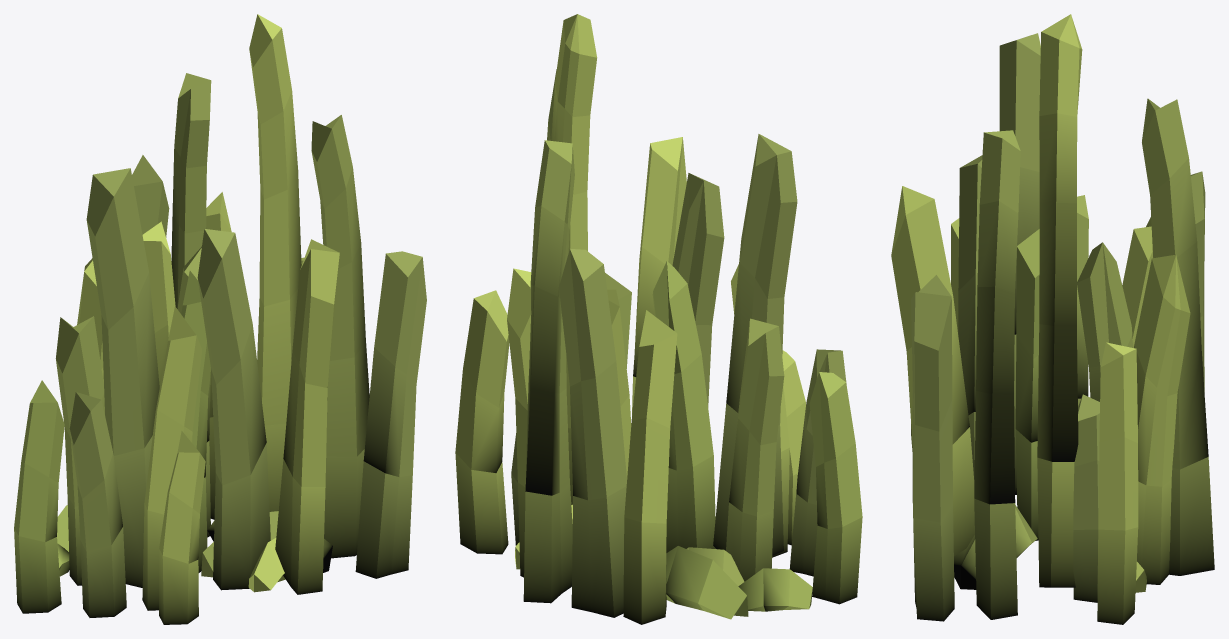
File: EA03_Plant_Grass_01d.glb
The picture shows the model from 3 angles, left to right: view 1: azimuth 30°, elevation 25°; view 2: azimuth 150°, elevation 25°; view 3: azimuth 270°, elevation 25°; orthographic projection. The views are drawn at different scales.
Visible parts, largest first — view 1: EA03_Plant_Grass_01d; view 2: EA03_Plant_Grass_01d; view 3: EA03_Plant_Grass_01d.
Boxes of the visible parts, x1,y1,x2,y2 form: EA03_Plant_Grass_01d: (14, 14, 426, 624); EA03_Plant_Grass_01d: (455, 14, 862, 624); EA03_Plant_Grass_01d: (891, 14, 1214, 624).
Size of the model in its own units: 0.5999 by 0.8362 by 0.4341.
1 material, 1 textured.
